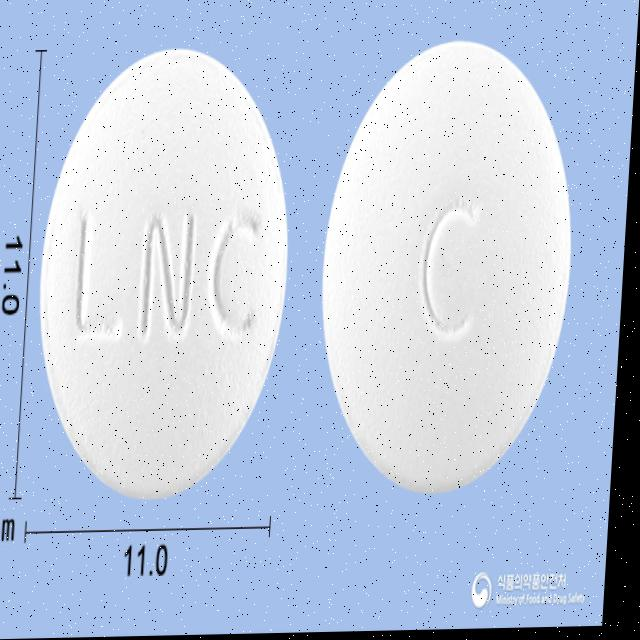Claniz - 500mg: (316, 39, 584, 499), (35, 45, 301, 503)
